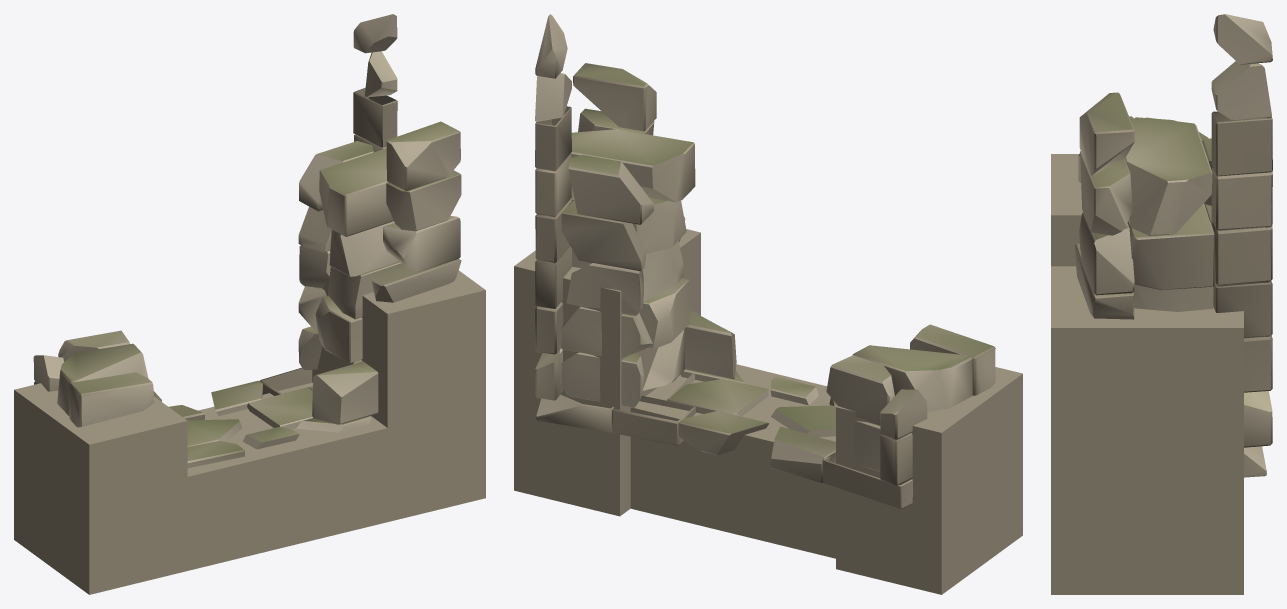
The model's file is dome_drum_bp1.glb.
The picture shows the model from 3 angles, left to right: view 1: azimuth 30°, elevation 25°; view 2: azimuth 150°, elevation 25°; view 3: azimuth 270°, elevation 25°; orthographic projection. The views are drawn at different scales.
Parts seen in each view (by area): view 1: dome_drum_bp1_far, dome_drum_bp1; view 2: dome_drum_bp1, dome_drum_bp1_far; view 3: dome_drum_bp1_far, dome_drum_bp1.
Boxes of the visible parts, x1,y1,x2,y2 form: dome_drum_bp1_far: (14, 270, 485, 594); dome_drum_bp1: (33, 14, 461, 468); dome_drum_bp1: (535, 14, 995, 509); dome_drum_bp1_far: (514, 229, 1022, 594); dome_drum_bp1_far: (1051, 154, 1243, 594); dome_drum_bp1: (1075, 14, 1272, 477).
Size of the model in its own units: 21.4 by 22.73 by 8.09.
